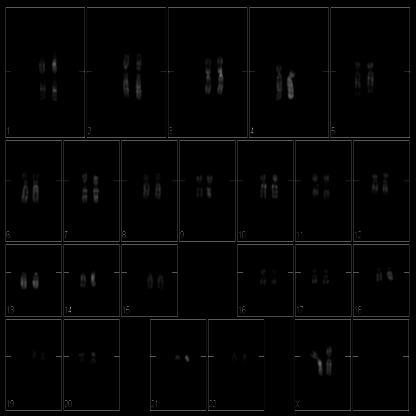1: (50, 47, 60, 102), (39, 47, 48, 102)
10: (270, 171, 279, 202), (260, 171, 268, 202)
11: (308, 172, 320, 200), (322, 172, 332, 200)
12: (382, 169, 388, 198), (372, 170, 378, 198), (382, 168, 388, 196)
13: (19, 270, 28, 294), (31, 268, 40, 292)
14: (80, 266, 88, 292), (90, 264, 98, 290)
15: (145, 263, 154, 289), (156, 267, 165, 293)
16: (270, 268, 278, 290), (260, 266, 266, 288)
17: (321, 266, 330, 289), (310, 264, 318, 286)
18: (376, 264, 383, 286), (386, 264, 393, 284)
19: (38, 347, 48, 364), (30, 346, 38, 362)
2: (122, 49, 132, 100), (134, 50, 144, 100)
20: (78, 348, 86, 367), (90, 349, 96, 368)
21: (182, 350, 190, 365), (173, 349, 181, 363)
22: (230, 348, 238, 364), (242, 349, 250, 365)
3: (202, 54, 212, 96), (215, 54, 225, 96)
4: (286, 66, 297, 104), (276, 60, 282, 102)
5: (354, 57, 363, 99), (366, 58, 375, 96)
6: (20, 170, 30, 206), (30, 170, 40, 206)
7: (92, 172, 99, 208), (82, 170, 88, 206)
8: (142, 170, 150, 203), (154, 171, 162, 204)
9: (196, 174, 204, 202), (206, 172, 214, 200)
X: (307, 346, 324, 380), (324, 343, 334, 379)
